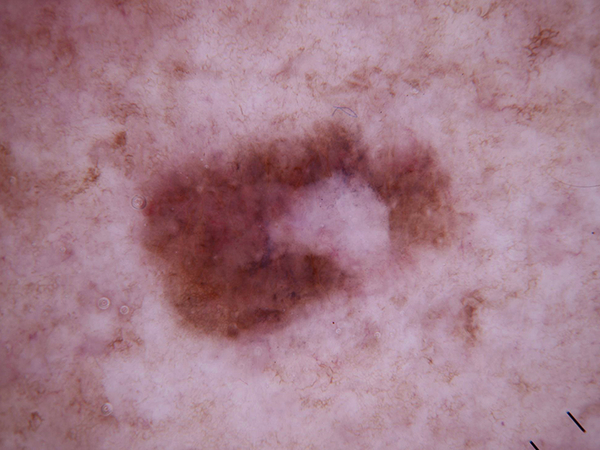Detected Lesion: (129, 119, 481, 344)
